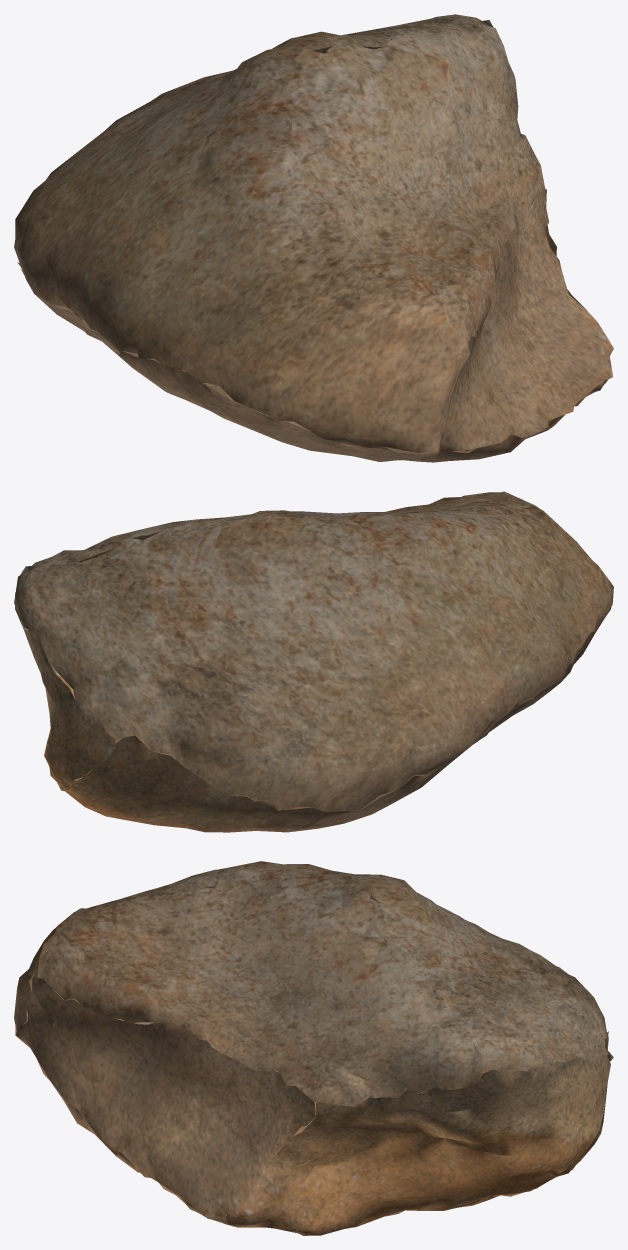
File: SM_CinderScenery_Rock_C.fbx
3 renders of one model, top to bottom at view 1: azimuth 30°, elevation 25°; view 2: azimuth 150°, elevation 25°; view 3: azimuth 270°, elevation 25°, orthographic. The views are drawn at different scales.
Parts seen in each view (by area): view 1: SM_CinderScenery_Rock_C; view 2: SM_CinderScenery_Rock_C; view 3: SM_CinderScenery_Rock_C.
Part boxes in pixels (x1,y1,x2,y2): SM_CinderScenery_Rock_C: [14, 14, 613, 462]; SM_CinderScenery_Rock_C: [14, 491, 613, 832]; SM_CinderScenery_Rock_C: [14, 861, 613, 1235].
Size of the model in its own units: 81.73 by 100 by 49.98.
